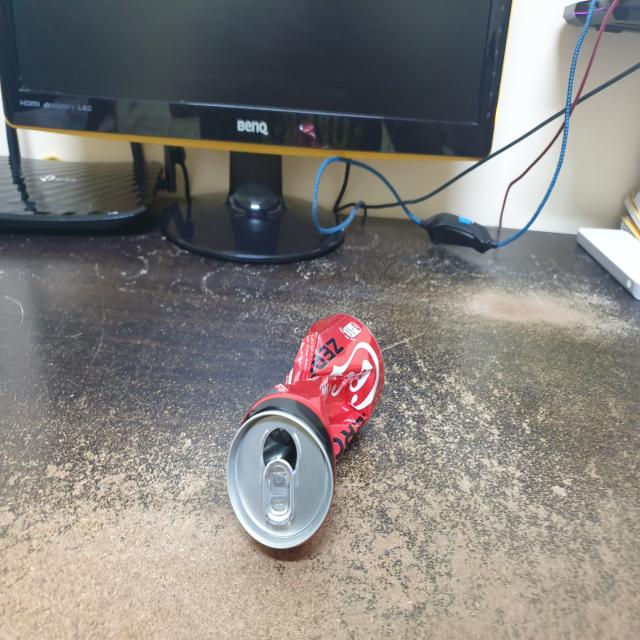non-organic waste: (219, 306, 388, 556)
